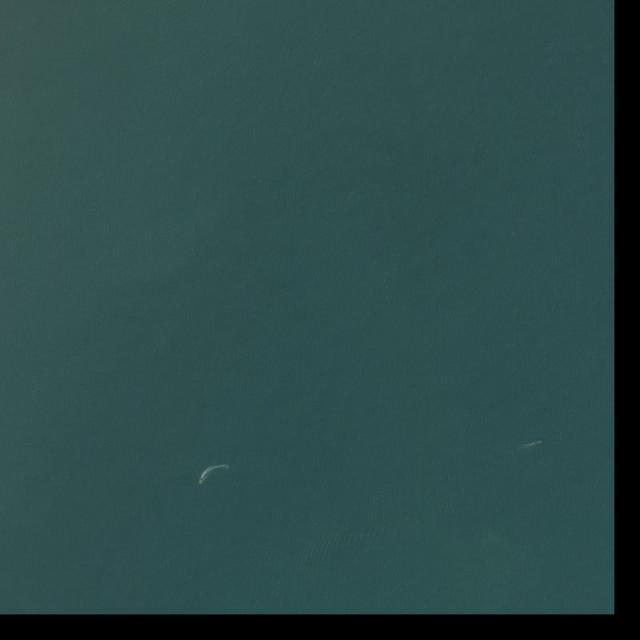ship: (198, 477, 206, 486), (531, 441, 542, 445)
